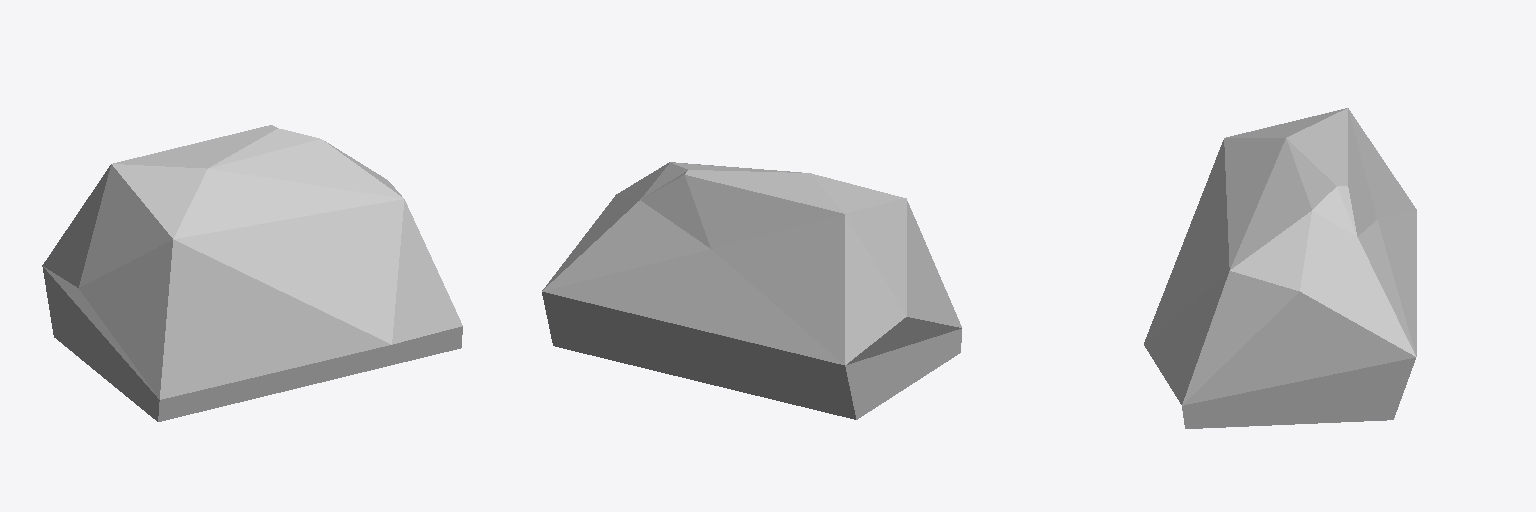
The model's file is Rock 2.obj.
3 renders of one model, left to right at view 1: azimuth 30°, elevation 25°; view 2: azimuth 150°, elevation 25°; view 3: azimuth 270°, elevation 25°, orthographic.
Parts seen in each view (by area): view 1: Box; view 2: Box; view 3: Box.
Boxes of the visible parts, x1=… form: Box: x1=42, y1=125, x2=462, y2=421; Box: x1=542, y1=162, x2=961, y2=419; Box: x1=1144, y1=108, x2=1416, y2=428.
Bounding box in the file's own units: 0.7 × 0.4069 × 0.5236.